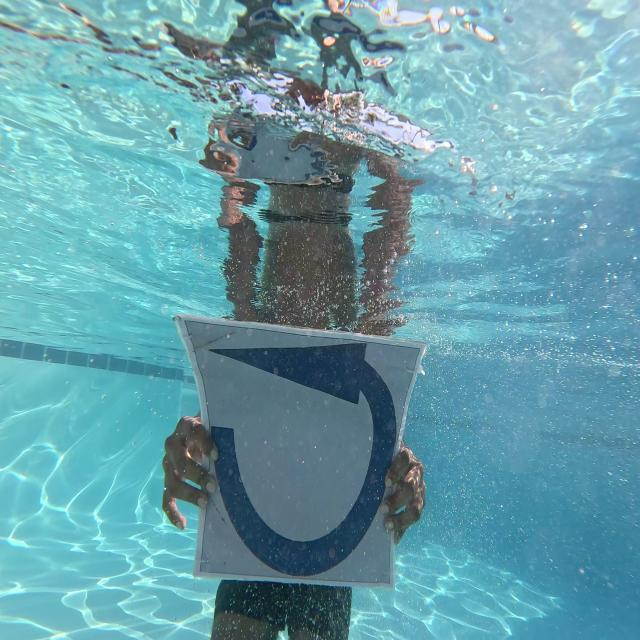blue_side: (203, 327, 403, 594)
